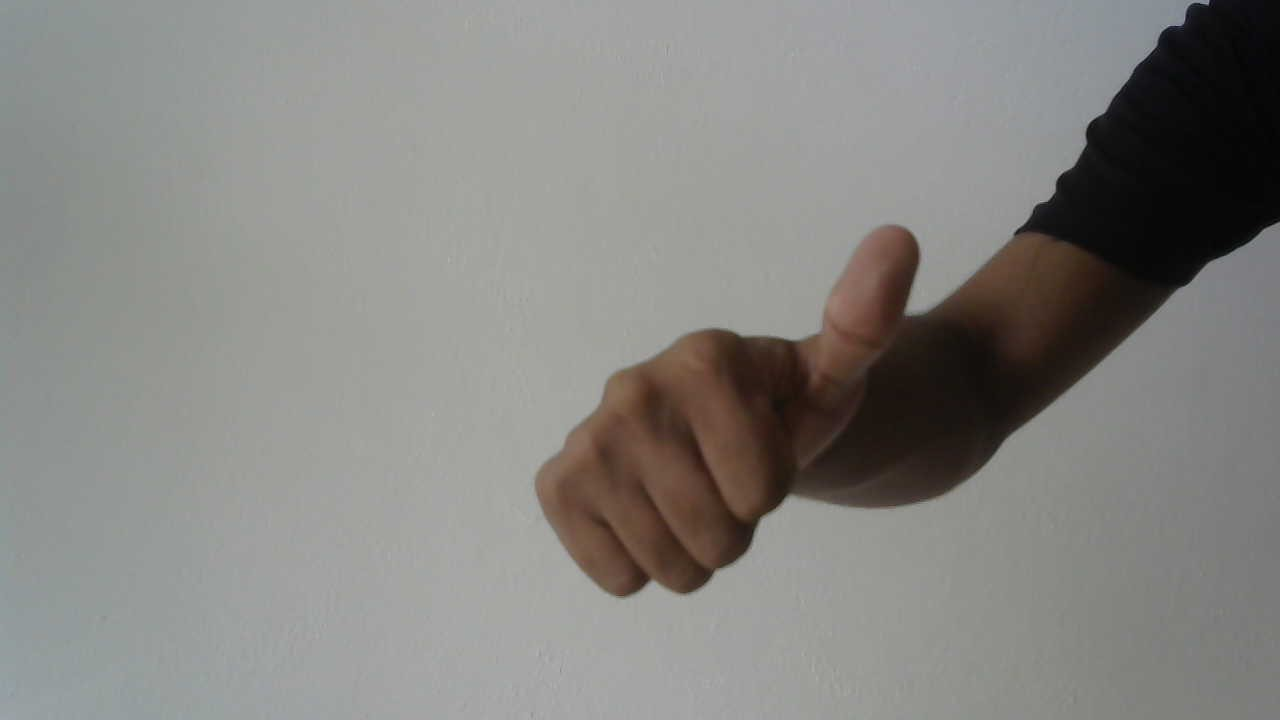thumbsup: (517, 217, 935, 613)
